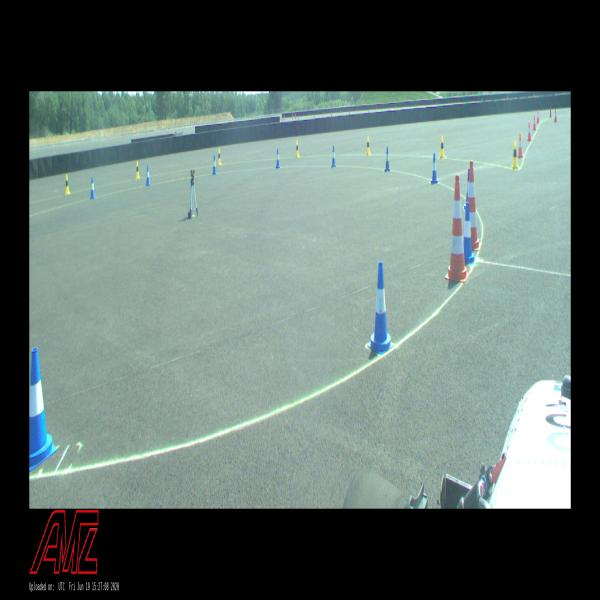blue_cone: (30, 349, 57, 470), (368, 262, 394, 353), (464, 203, 475, 264), (464, 169, 470, 209), (431, 153, 438, 184), (90, 178, 96, 199), (385, 146, 390, 171), (331, 146, 336, 167), (146, 166, 150, 186), (212, 155, 216, 175), (276, 149, 280, 168)
large_orange_cone: (445, 176, 470, 282), (468, 162, 481, 250)
orange_cone: (518, 134, 524, 158), (527, 122, 532, 141), (533, 115, 536, 130), (554, 109, 557, 122), (537, 111, 539, 122)
unknown_cone: (550, 110, 551, 118)
yellow_cone: (511, 141, 518, 169), (440, 136, 445, 158), (65, 174, 70, 193), (366, 136, 370, 155), (136, 162, 140, 178), (296, 140, 299, 157), (218, 149, 221, 165)
